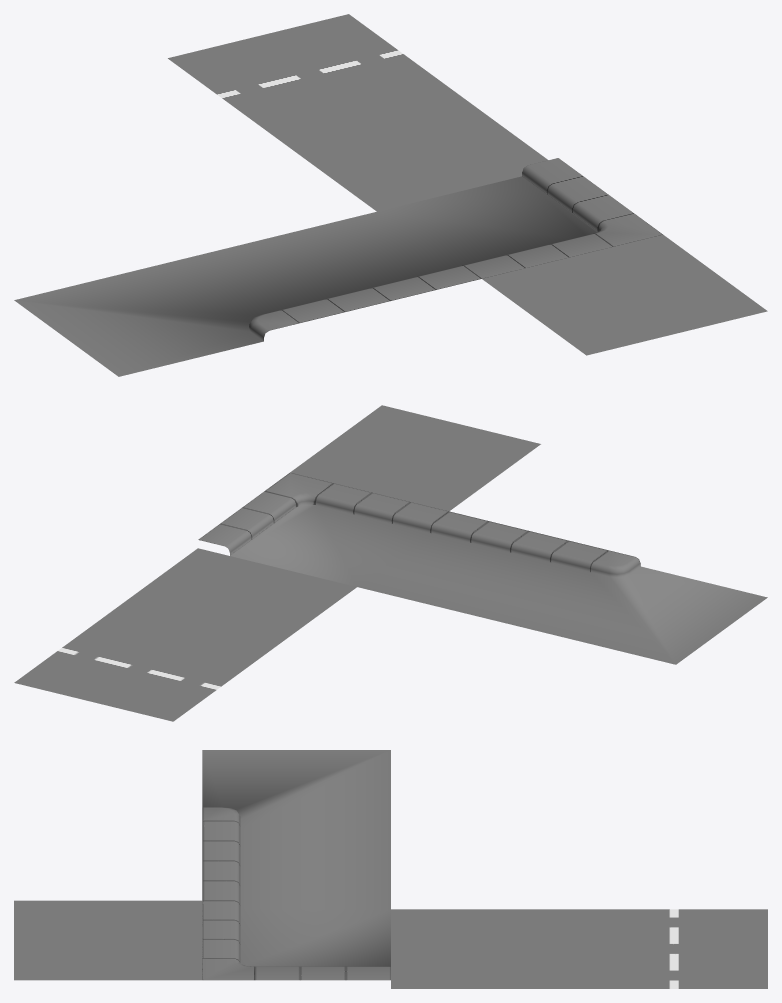
The model's file is StreetPieces.glb.
The picture shows the model from 3 angles, top to bottom: view 1: azimuth 30°, elevation 25°; view 2: azimuth 150°, elevation 25°; view 3: azimuth 270°, elevation 25°; orthographic projection. The views are drawn at different scales.
Parts seen in each view (by area): view 1: PavementBase, StreetLines, PavementOuterCorner, StreetBase, PavementInnerCorner, PavementEdge; view 2: PavementInnerCorner, PavementEdge, PavementOuterCorner, StreetBase, PavementBase, StreetLines; view 3: PavementBase, PavementEdge, StreetBase, StreetLines, PavementOuterCorner, PavementInnerCorner.
Part boxes in pixels (bbox=[...]): PavementBase: bbox=[482, 234, 767, 355]; StreetLines: bbox=[168, 14, 453, 134]; PavementOuterCorner: bbox=[14, 256, 299, 376]; StreetBase: bbox=[272, 91, 548, 211]; PavementInnerCorner: bbox=[377, 158, 662, 278]; PavementEdge: bbox=[196, 211, 481, 322]; PavementInnerCorner: bbox=[198, 472, 448, 586]; PavementEdge: bbox=[358, 511, 607, 625]; PavementOuterCorner: bbox=[517, 550, 767, 664]; StreetBase: bbox=[106, 548, 356, 654]; PavementBase: bbox=[290, 405, 540, 511]; StreetLines: bbox=[14, 615, 264, 721]; PavementBase: bbox=[14, 900, 202, 980]; PavementEdge: bbox=[202, 821, 390, 909]; StreetBase: bbox=[391, 909, 579, 988]; StreetLines: bbox=[579, 909, 767, 988]; PavementOuterCorner: bbox=[202, 750, 390, 829]; PavementInnerCorner: bbox=[202, 900, 390, 980].
Bounding box in the file's own units: 6 × 0.1 × 8.
Materials: 1 (1 with a texture image).
